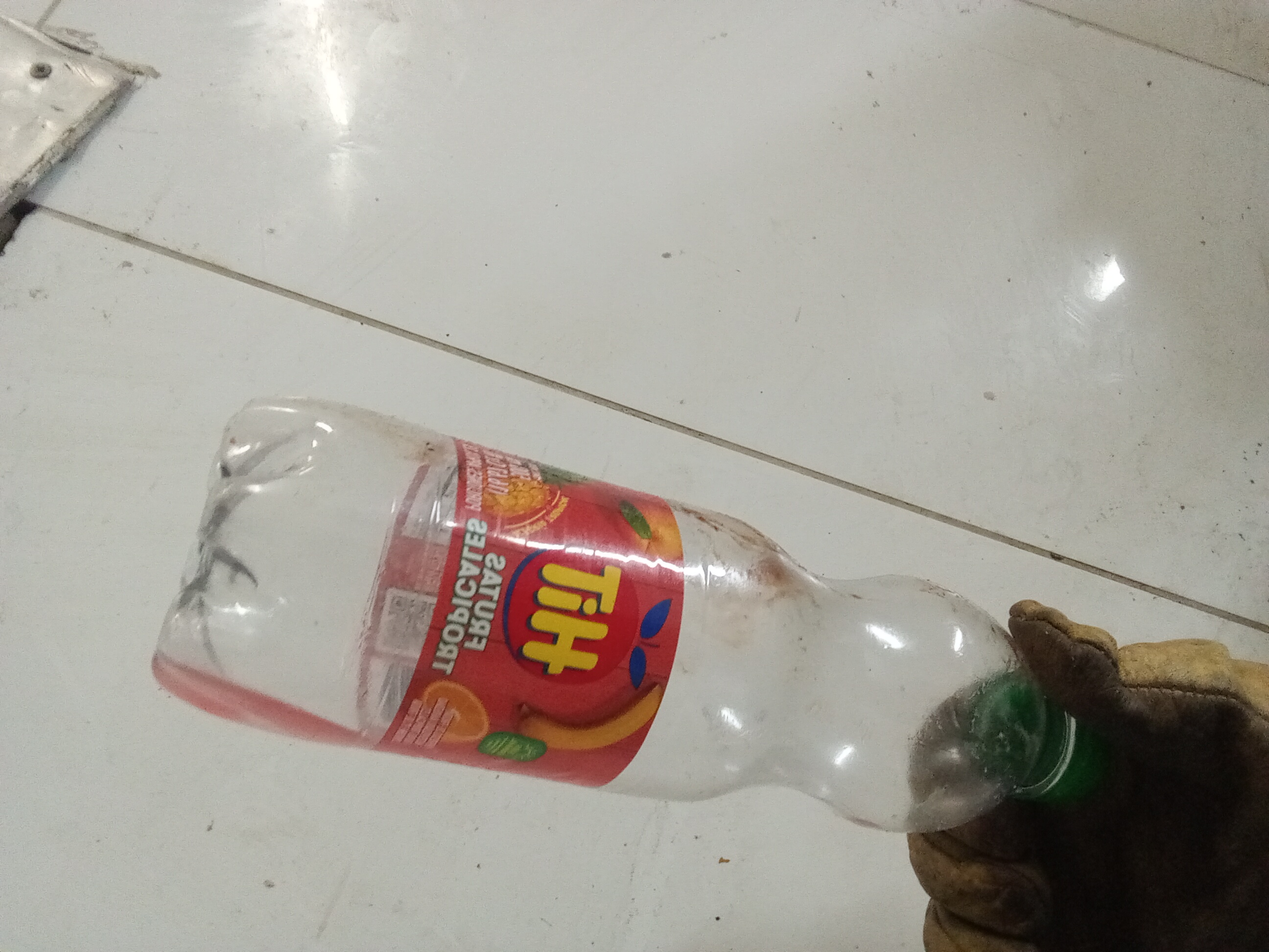Plastico: (154, 396, 1111, 833)
